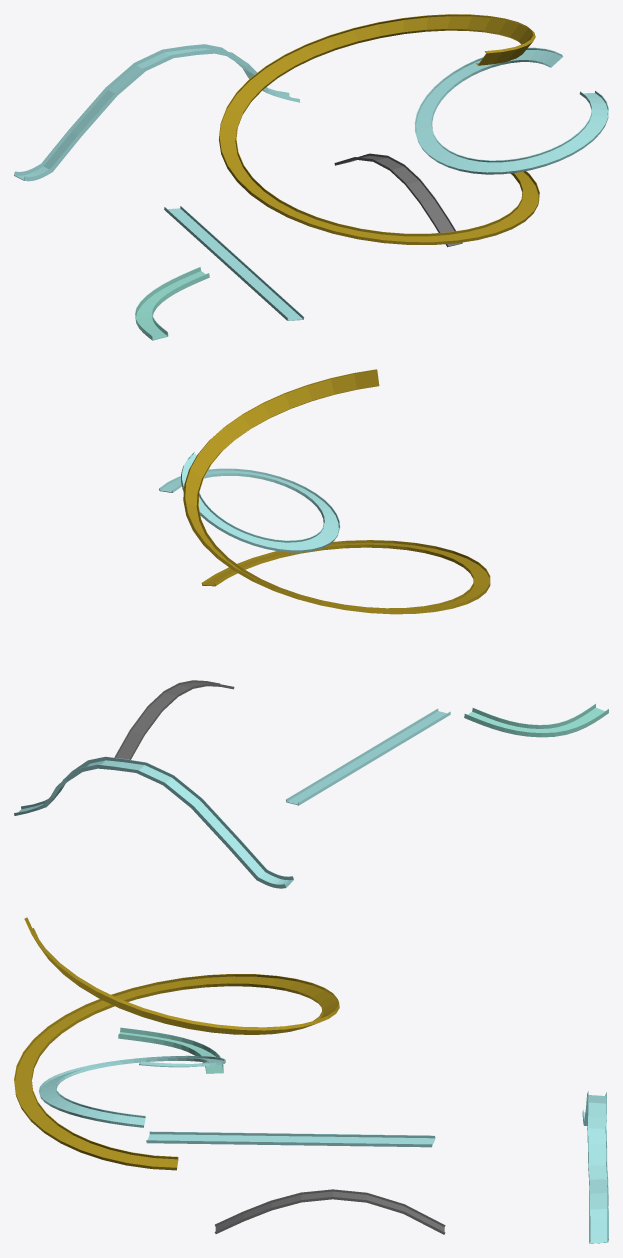
The model's file is bridgefbx.fbx.
3 renders of one model, top to bottom at view 1: azimuth 30°, elevation 25°; view 2: azimuth 150°, elevation 25°; view 3: azimuth 270°, elevation 25°, orthographic. The views are drawn at different scales.
Parts seen in each view (by area): view 1: Helix002, Helix001, Line003, Line001, Line004, Line002; view 2: Helix002, Line003, Helix001, Line001, Line002, Line004; view 3: Helix002, Line001, Line003, Helix001, Line004, Line002.
Boxes of the visible parts, bbox=[...] form: Helix002: bbox=[219, 14, 539, 244]; Helix001: bbox=[414, 47, 608, 174]; Line003: bbox=[14, 44, 300, 181]; Line001: bbox=[164, 206, 304, 320]; Line004: bbox=[334, 153, 462, 247]; Line002: bbox=[135, 267, 209, 340]; Helix002: bbox=[183, 369, 490, 614]; Line003: bbox=[14, 756, 293, 888]; Helix001: bbox=[159, 451, 340, 552]; Line001: bbox=[286, 708, 450, 805]; Line002: bbox=[464, 703, 608, 737]; Line004: bbox=[114, 680, 234, 759]; Helix002: bbox=[14, 917, 339, 1170]; Line001: bbox=[146, 1131, 435, 1147]; Line003: bbox=[582, 1091, 608, 1243]; Helix001: bbox=[39, 1055, 225, 1127]; Line004: bbox=[214, 1189, 445, 1234]; Line002: bbox=[118, 1027, 223, 1073].
Size of the model in its own units: 151 by 91.29 by 168.
